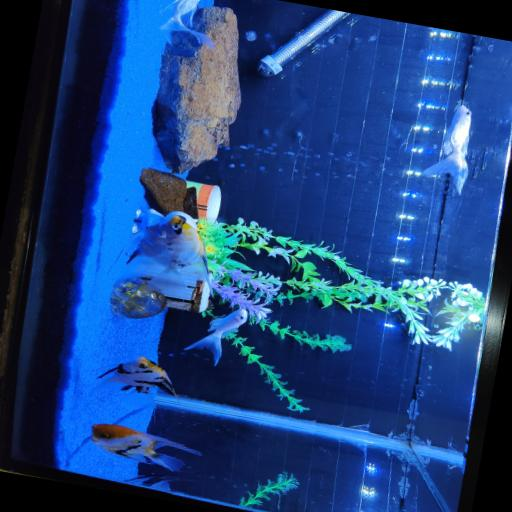Fish: (115, 214, 212, 297), (91, 423, 201, 470), (422, 105, 470, 193), (93, 356, 177, 406), (184, 308, 247, 364), (160, 0, 213, 48), (125, 474, 177, 491)
